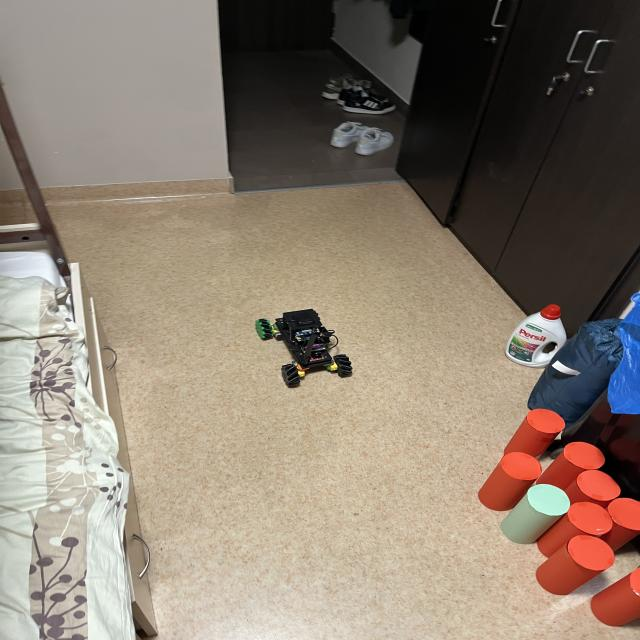robot: (256, 309, 352, 387)
